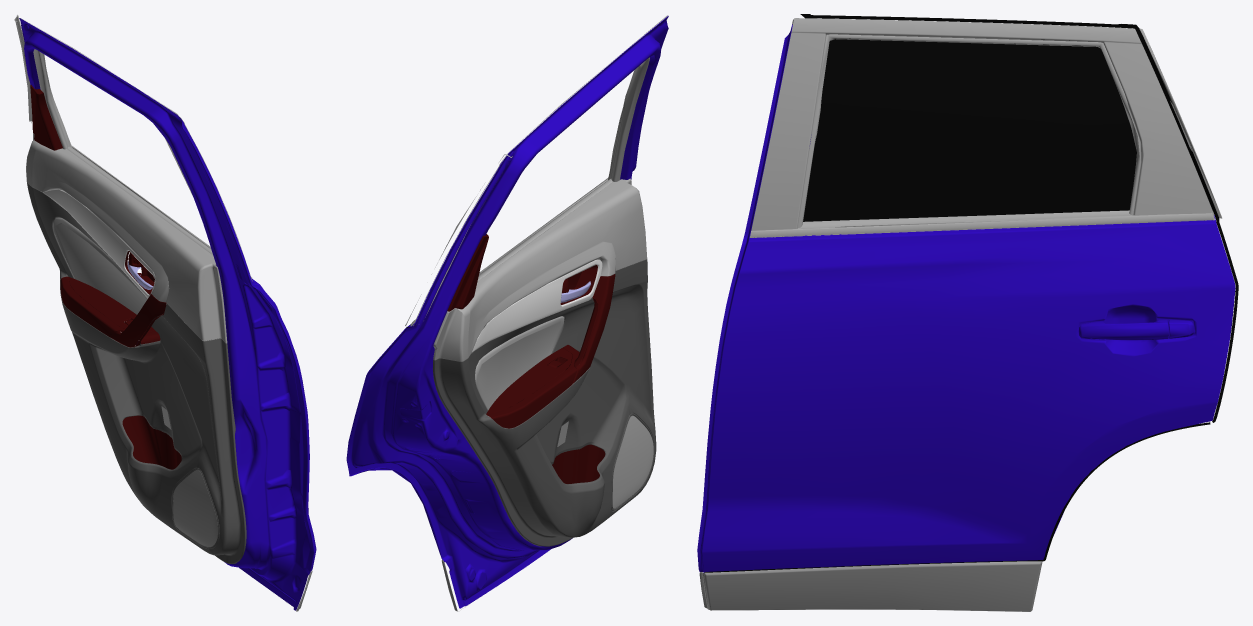
Rendered from TOYOTA_URBAN_CRUISER_PRE_EX_HIG_RL_DOORS_MESH.glb.
3 views of the same model, side by side, from view 1: azimuth 30°, elevation 25°; view 2: azimuth 150°, elevation 25°; view 3: azimuth 270°, elevation 25° (orthographic). The views are drawn at different scales.
Visible parts, largest first — view 1: TOYOTA_URBAN_CRUISER_PRE_EX_HIG_RL_DOORS_MESH; view 2: TOYOTA_URBAN_CRUISER_PRE_EX_HIG_RL_DOORS_MESH; view 3: TOYOTA_URBAN_CRUISER_PRE_EX_HIG_RL_DOORS_MESH.
Part boxes in pixels (x1,y1,x2,y2): TOYOTA_URBAN_CRUISER_PRE_EX_HIG_RL_DOORS_MESH: [14, 15, 316, 611]; TOYOTA_URBAN_CRUISER_PRE_EX_HIG_RL_DOORS_MESH: [346, 15, 668, 611]; TOYOTA_URBAN_CRUISER_PRE_EX_HIG_RL_DOORS_MESH: [697, 14, 1238, 611].
Bounding box in the file's own units: 0.2925 × 1.17 × 1.04.
